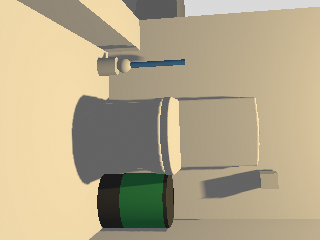lid_1: (160, 97, 180, 174)
